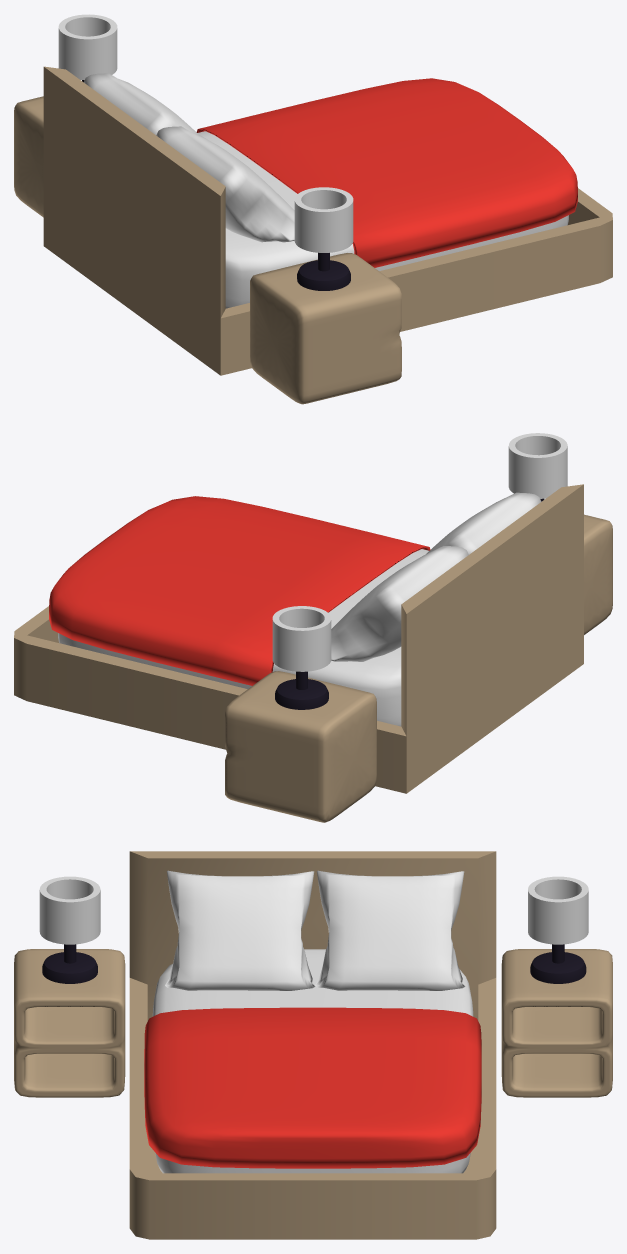
The model's file is Bed.fbx.
3 renders of one model, top to bottom at view 1: azimuth 30°, elevation 25°; view 2: azimuth 150°, elevation 25°; view 3: azimuth 270°, elevation 25°, orthographic. The views are drawn at different scales.
Parts seen in each view (by area): view 1: Plane, Plane.002, Cube.003, Cube, Plane.001, Circle.001, Circle, Cube.004, Cube.001; view 2: Plane, Plane.002, Cube.004, Cube.001, Plane.001, Circle, Circle.001, Cube.003, Cube; view 3: Plane.002, Plane, Cube, Cube.001, Cube.003, Cube.004, Plane.001, Circle.001, Circle.
Boxes of the visible parts, x1,y1,x2,y2 form: Plane: (43, 66, 612, 375); Plane.002: (196, 78, 577, 267); Cube.003: (250, 253, 401, 404); Cube: (156, 126, 294, 242); Plane.001: (197, 131, 568, 308); Circle.001: (294, 187, 353, 290); Circle: (58, 14, 117, 82); Cube.004: (14, 96, 43, 217); Cube.001: (84, 73, 198, 134); Plane: (14, 484, 583, 793); Plane.002: (49, 496, 430, 685); Cube.004: (225, 671, 376, 822); Cube.001: (331, 546, 468, 661); Plane.001: (58, 549, 428, 726); Circle: (272, 606, 331, 709); Circle.001: (508, 433, 567, 501); Cube.003: (584, 514, 612, 634); Cube: (426, 492, 541, 554); Plane.002: (144, 1007, 481, 1168); Plane: (129, 851, 496, 1239); Cube: (165, 870, 315, 990); Cube.001: (315, 870, 465, 990); Cube.003: (14, 949, 125, 1097); Cube.004: (501, 949, 612, 1097); Plane.001: (152, 949, 473, 1173); Circle.001: (39, 876, 100, 983); Circle: (528, 876, 588, 983).
Size of the model in its own units: 863 by 369 by 1077.
